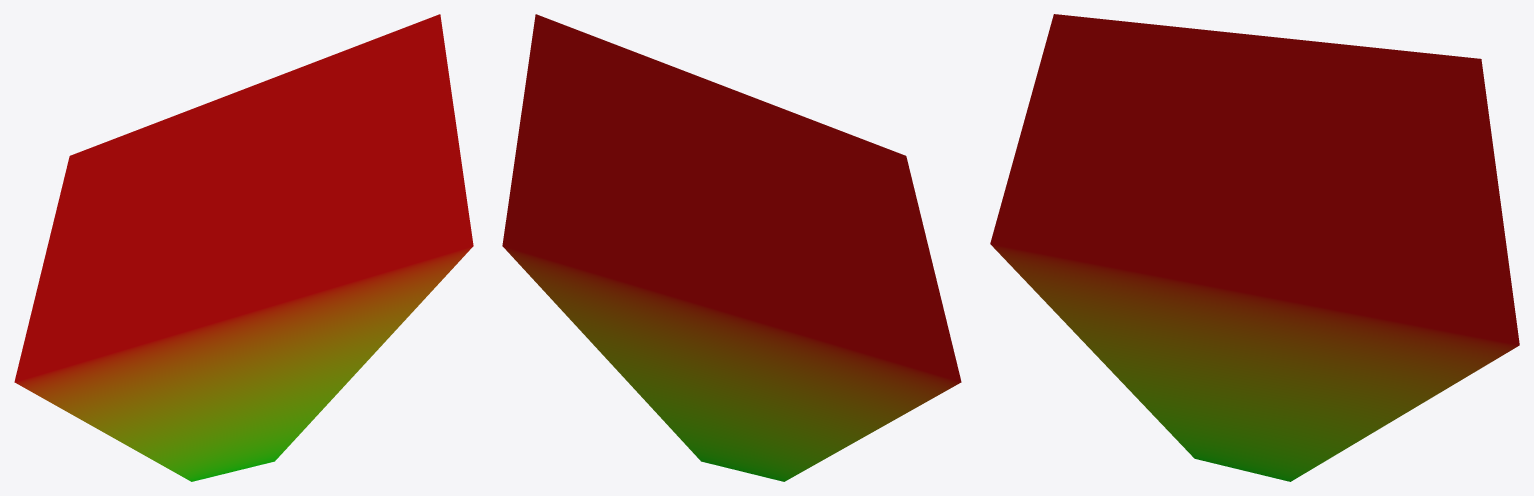
The model's file is Common Hemp Nettle_LOD7_Var3_xh1kdfbqx.fbx.
3 views of the same model, side by side, from view 1: azimuth 30°, elevation 25°; view 2: azimuth 150°, elevation 25°; view 3: azimuth 330°, elevation 25° (orthographic). The views are drawn at different scales.
Parts seen in each view (by area): view 1: _smy4_Var3_LOD7; view 2: _smy4_Var3_LOD7; view 3: _smy4_Var3_LOD7.
Boxes of the visible parts, box(x1,y1,x2,y2) form: _smy4_Var3_LOD7: box(14, 14, 473, 481); _smy4_Var3_LOD7: box(502, 14, 961, 481); _smy4_Var3_LOD7: box(990, 14, 1519, 481).
Bounding box in the file's own units: 62.25 × 52.76 × 2.31e-06.
